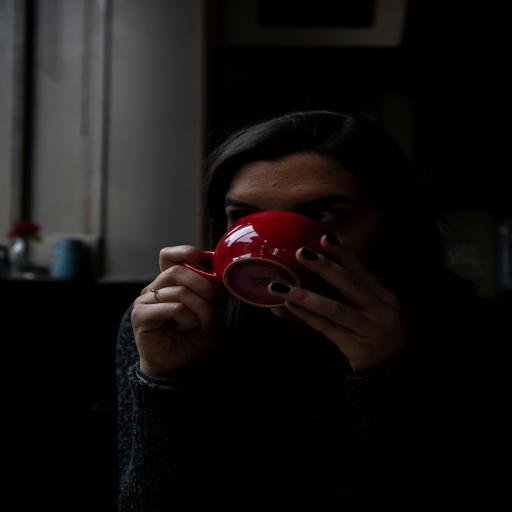cup: (183, 209, 334, 308)
